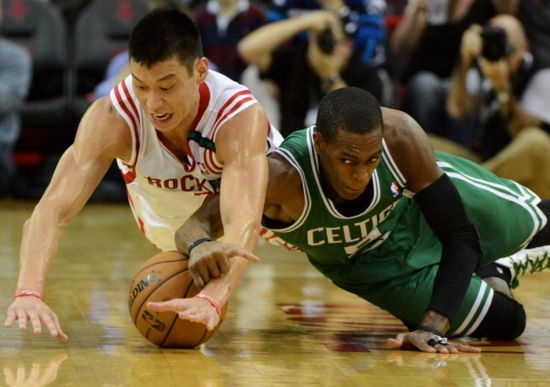falling: (13, 4, 288, 348)
